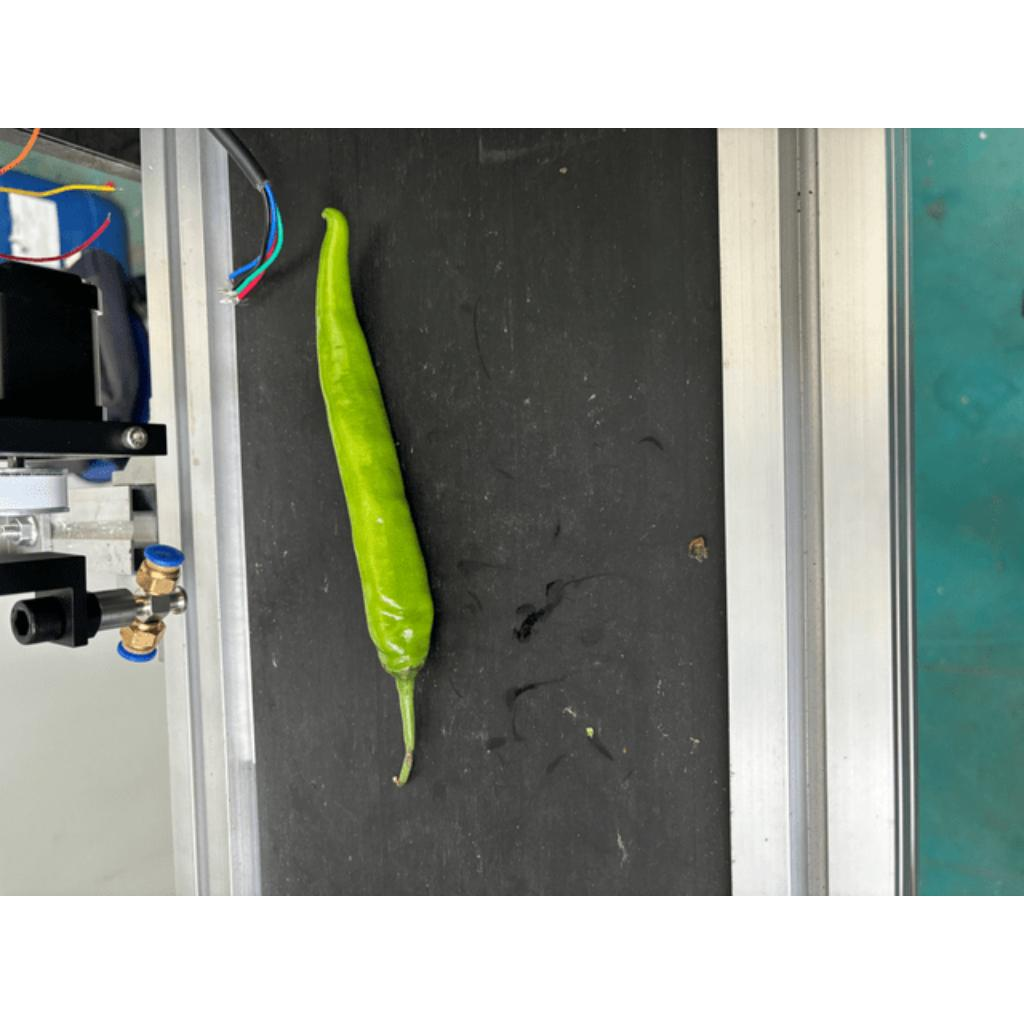chili: (311, 205, 433, 684)
